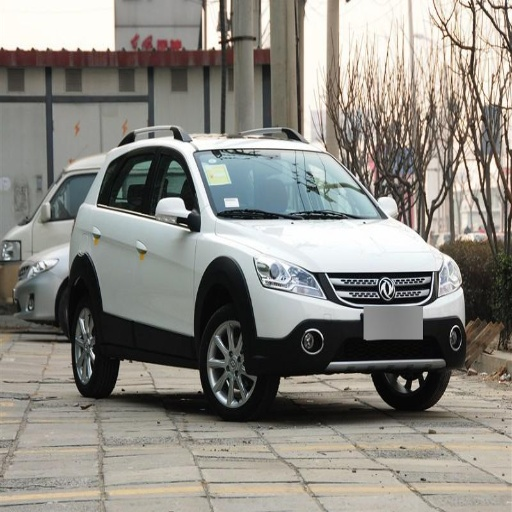front_bumper: (252, 269, 465, 373)
front_right_door: (135, 147, 201, 352)
front_right_light: (256, 256, 326, 296)
hood: (235, 218, 442, 271)
